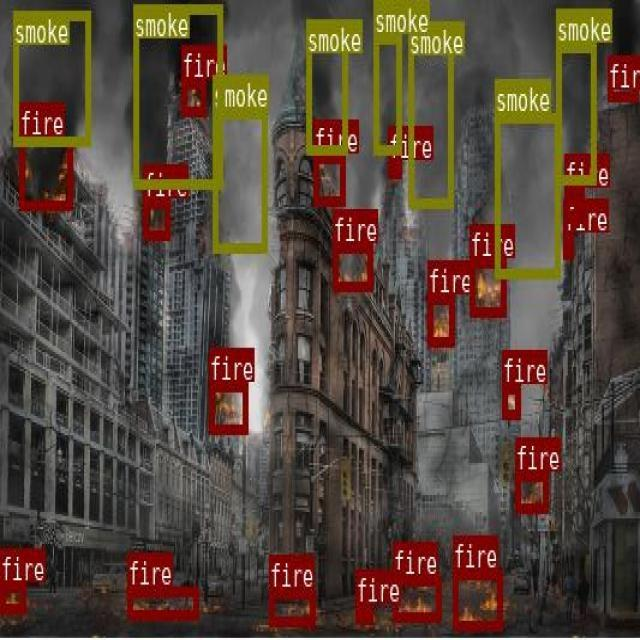fire: (19, 135, 72, 209), (452, 568, 501, 629), (127, 586, 197, 617), (392, 576, 440, 619), (469, 256, 504, 314), (332, 242, 372, 290), (209, 382, 247, 432), (313, 152, 344, 205), (269, 588, 314, 624), (607, 55, 637, 100), (427, 293, 453, 344), (514, 471, 546, 511), (143, 198, 169, 238), (181, 78, 205, 114), (0, 580, 24, 610), (501, 382, 519, 418), (565, 188, 584, 222), (354, 602, 372, 622), (563, 232, 573, 256), (387, 160, 400, 175)
smoke: (132, 4, 222, 188), (495, 112, 559, 276), (12, 9, 89, 145), (407, 21, 452, 206), (212, 108, 266, 251), (556, 41, 595, 182), (305, 18, 346, 151), (372, 33, 401, 153)
